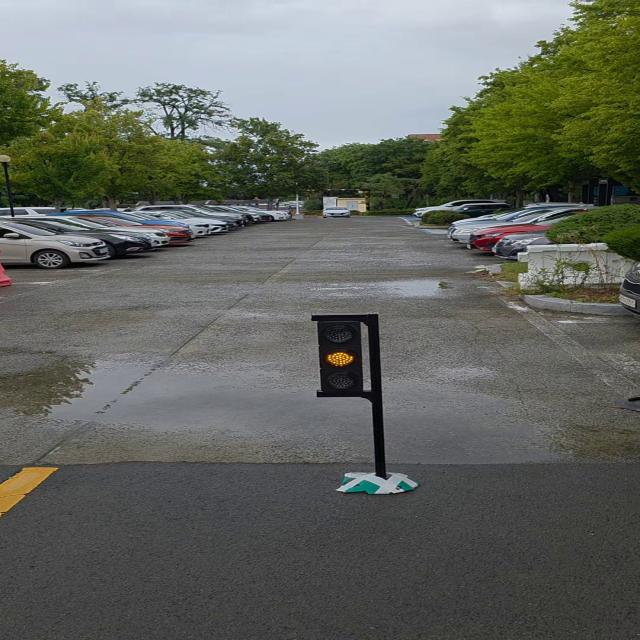yellow: (317, 316, 369, 396)
